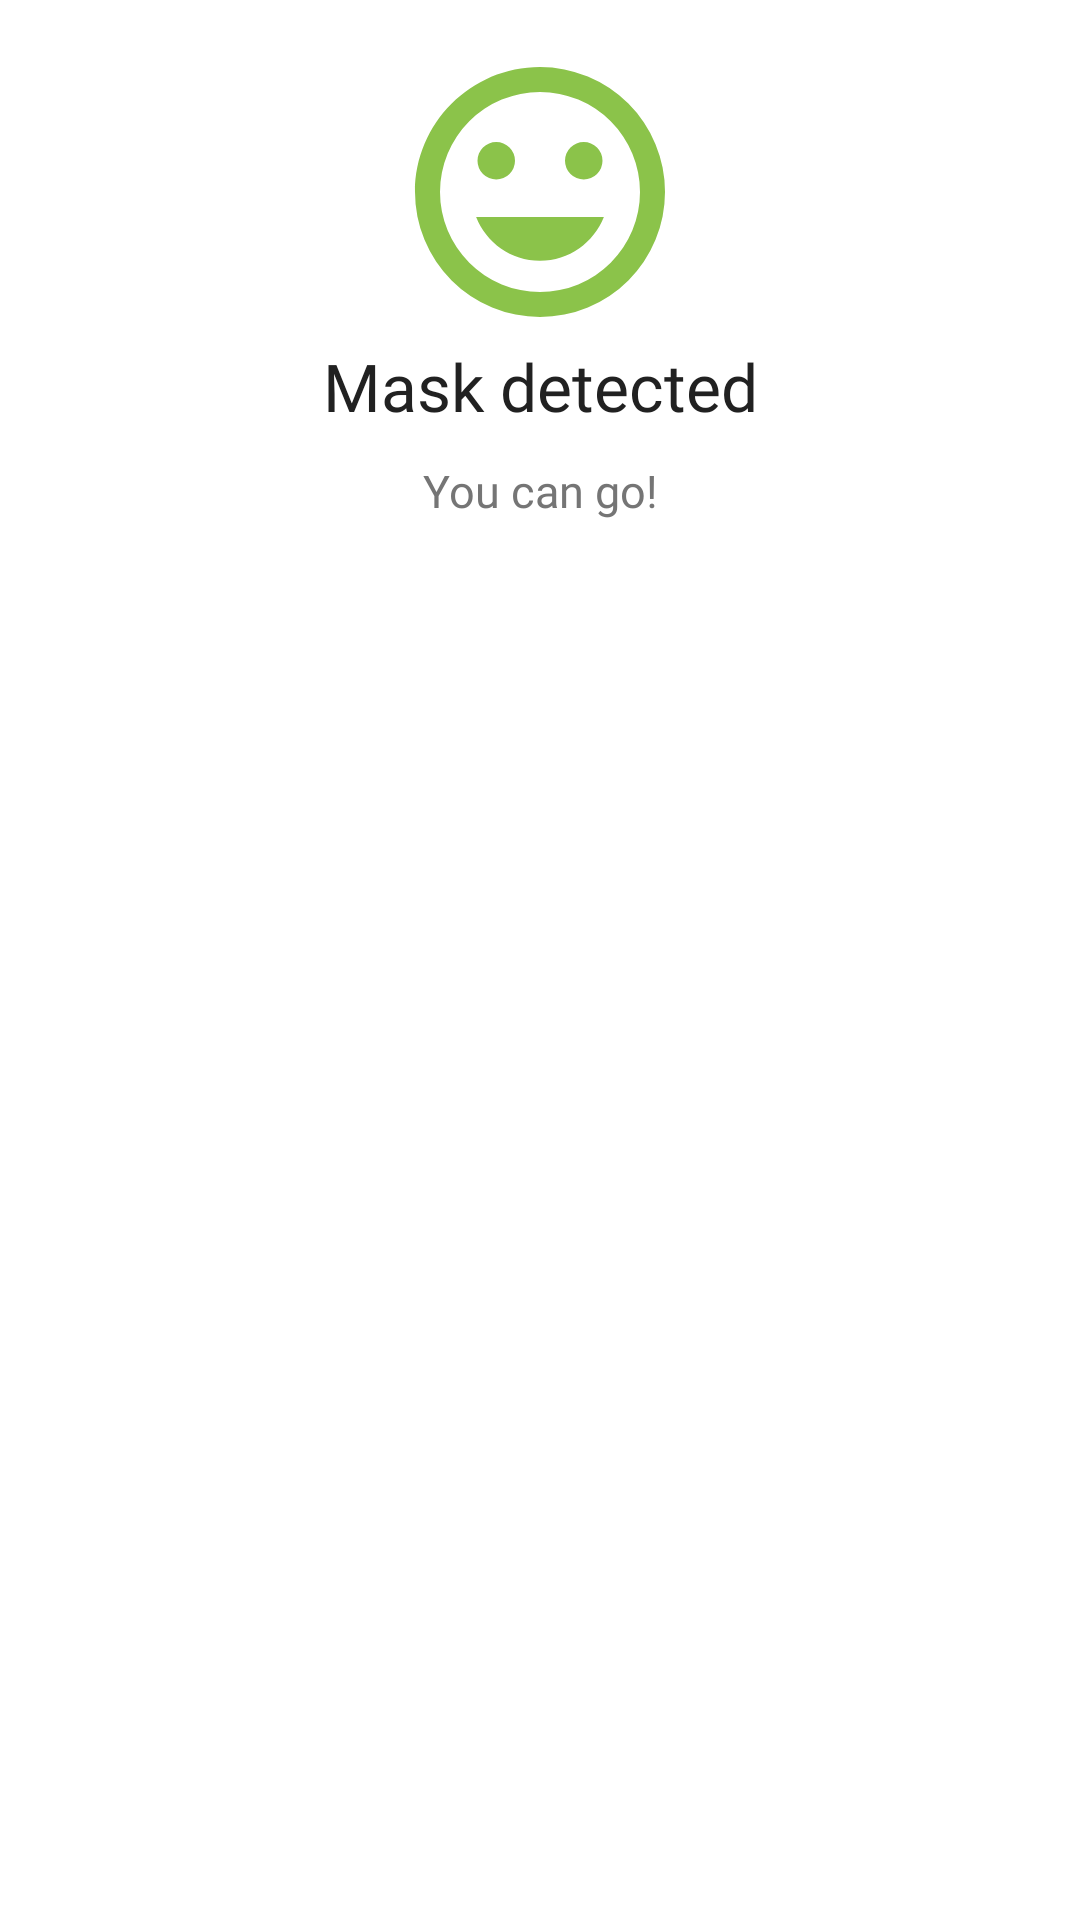

Point at icon controls on the screen. Image size 1080 x 1920, points as (x,y).
smile: (540,192)
